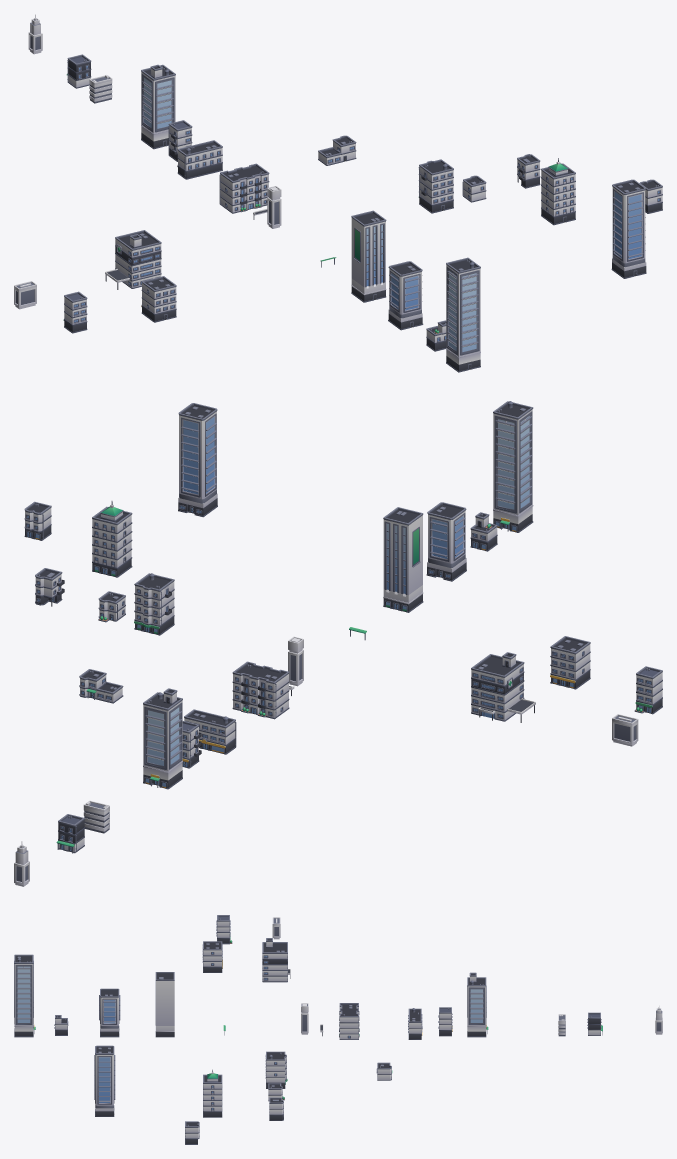
File: map-demo.glb
3 views of the same model, one above another, from view 1: azimuth 30°, elevation 25°; view 2: azimuth 150°, elevation 25°; view 3: azimuth 270°, elevation 25° (orthographic). The views are drawn at different scales.
Visible parts, largest first — view 1: building-skyscraper-d, building-skyscraper-b, building-skyscraper-e, building-skyscraper-c, building-n, building-skyscraper-a, building-j, building-m, building-l, building-k, building-i, building-f (+10 smaller); view 2: building-skyscraper-d, building-skyscraper-b, building-skyscraper-e, building-skyscraper-c, building-n, building-skyscraper-a, building-j, building-m, building-l, building-i, building-k, building-f (+10 smaller); view 3: building-skyscraper-d, building-skyscraper-b, building-skyscraper-e, building-skyscraper-c, building-n, building-skyscraper-a, building-m, building-j, building-l, building-i, building-k, building-f (+2 smaller).
Boxes of the visible parts, x1,y1,x2,y2 form: building-skyscraper-d: [446, 257, 480, 372]; building-skyscraper-b: [611, 179, 646, 278]; building-skyscraper-e: [351, 210, 386, 302]; building-skyscraper-c: [141, 64, 175, 149]; building-n: [105, 230, 161, 289]; building-skyscraper-a: [388, 261, 423, 330]; building-j: [219, 163, 269, 213]; building-m: [541, 158, 575, 225]; building-l: [418, 159, 453, 213]; building-k: [177, 140, 222, 179]; building-i: [141, 276, 176, 322]; building-f: [63, 291, 87, 333]; building-skyscraper-d: [493, 401, 533, 532]; building-skyscraper-b: [178, 403, 217, 517]; building-skyscraper-e: [383, 507, 423, 612]; building-skyscraper-c: [143, 688, 182, 789]; building-n: [471, 652, 535, 722]; building-skyscraper-a: [426, 502, 466, 581]; building-j: [232, 661, 289, 719]; building-m: [92, 501, 132, 577]; building-l: [134, 573, 174, 635]; building-i: [550, 636, 590, 689]; building-k: [184, 709, 236, 754]; building-f: [634, 666, 662, 714]; building-skyscraper-d: [14, 954, 35, 1037]; building-skyscraper-b: [94, 1045, 115, 1116]; building-skyscraper-e: [155, 972, 174, 1037]; building-skyscraper-c: [467, 972, 488, 1037]; building-n: [262, 938, 290, 982]; building-skyscraper-a: [99, 988, 120, 1037]; building-m: [203, 1069, 222, 1117]; building-j: [339, 1003, 359, 1039]; building-l: [265, 1051, 287, 1088]; building-i: [202, 941, 222, 972]; building-k: [408, 1008, 422, 1039]; building-f: [216, 915, 232, 944].
Size of what is drawn, in the model's own units: 170 by 28.82 by 220.
25 materials, 25 textured.
